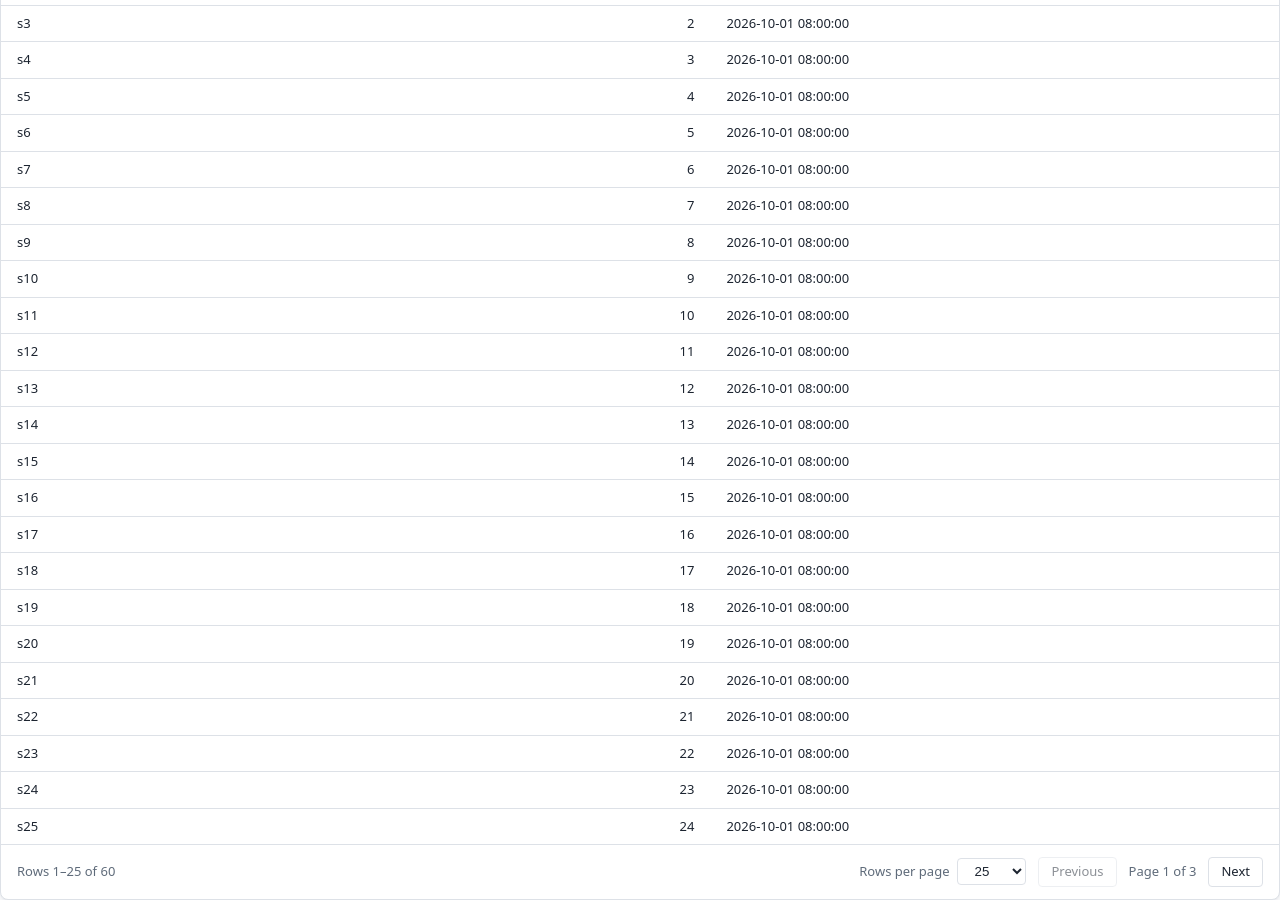
Scenario: DataTable › changes the page size
(page scrolled)
Select "50" in the dropdown labelled "Rows per page" at (992, 872), box [958,858,1026,885]
(page scrolled)
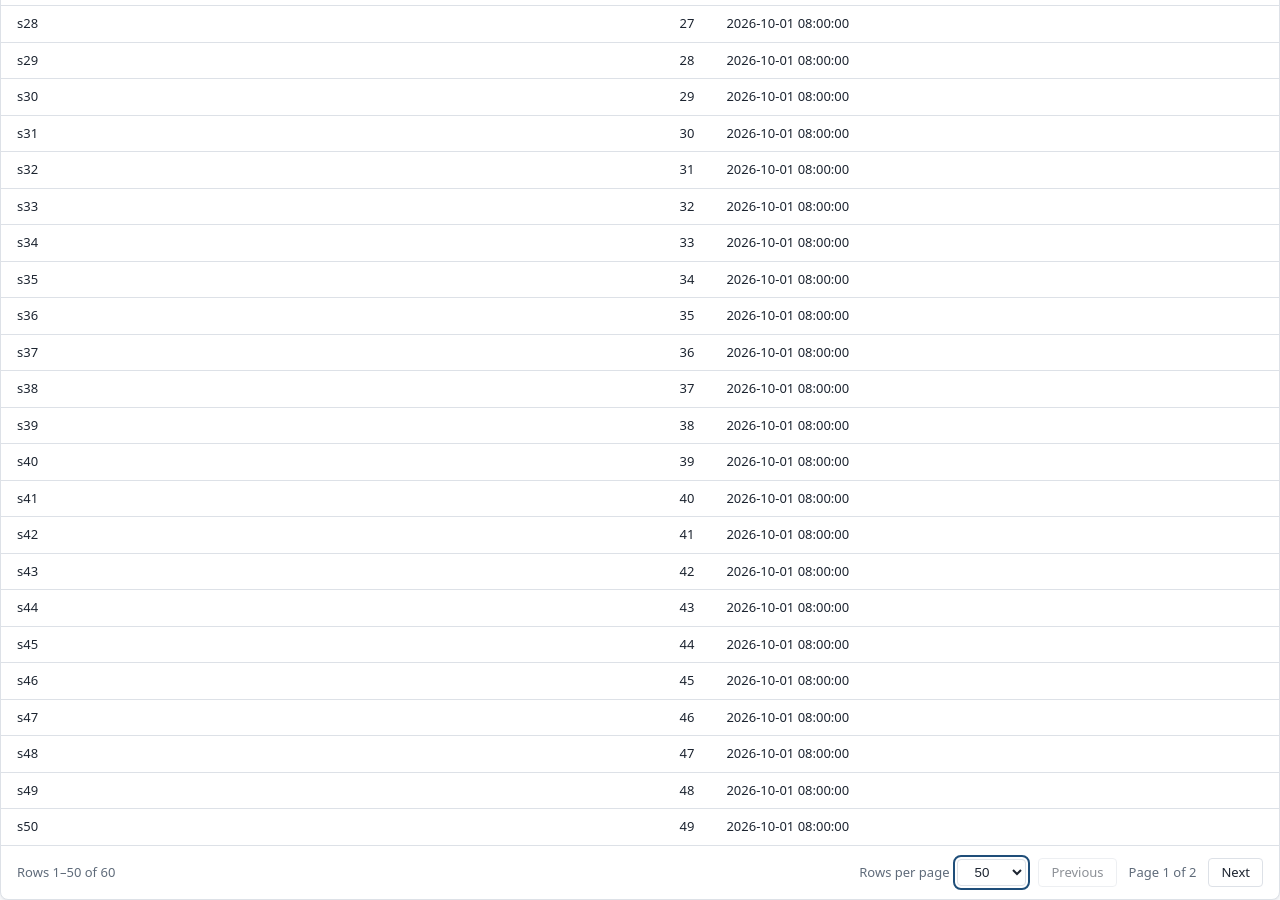
Expected: the text "Rows 1–50 of 60" is shown, [17,862,115,882]
